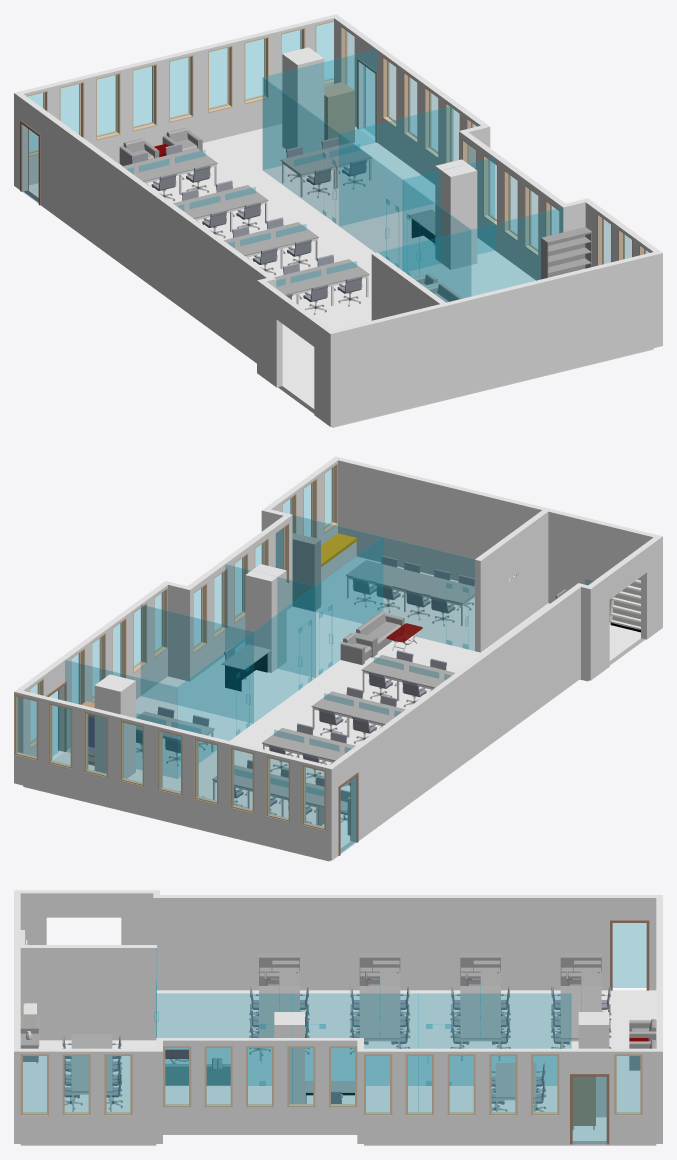
The picture shows the model from 3 angles, top to bottom: view 1: azimuth 30°, elevation 25°; view 2: azimuth 150°, elevation 25°; view 3: azimuth 270°, elevation 25°; orthographic projection.
Size of the model in its own units: 11.26 by 3.15 by 19.1.
